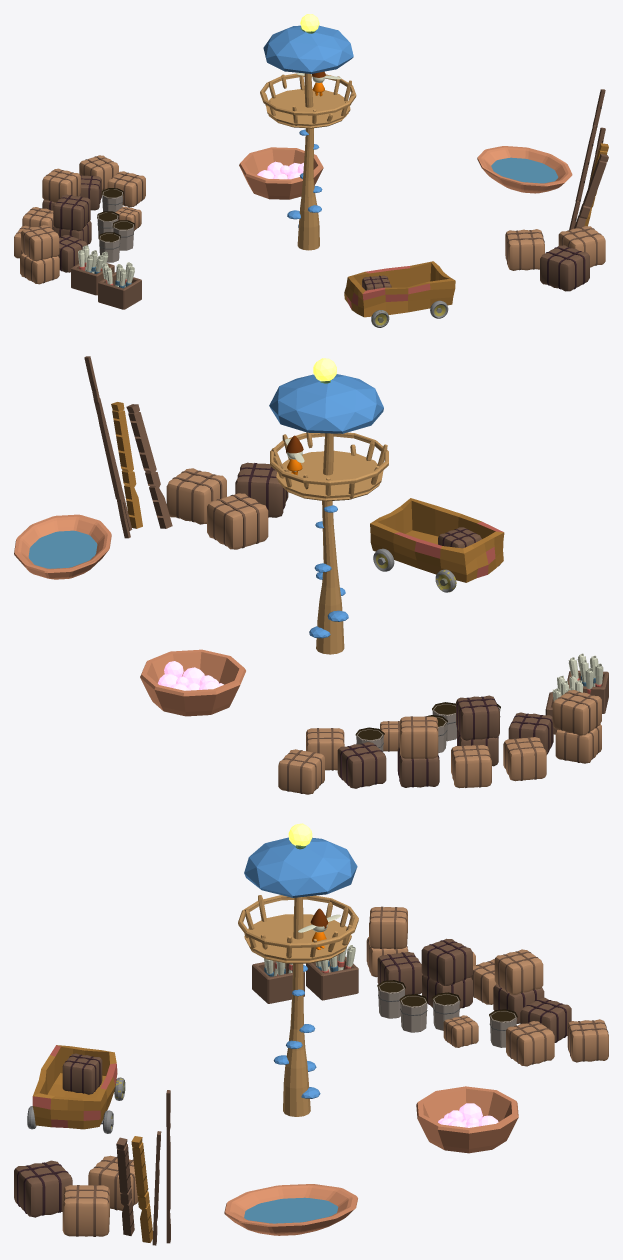
Rendered from port_items.fbx.
3 views of the same model, one above another, from view 1: azimuth 30°, elevation 25°; view 2: azimuth 150°, elevation 25°; view 3: azimuth 270°, elevation 25° (orthographic). The views are drawn at different scales.
Visible parts, largest first — view 1: Cube.050, Icosphere.184, CookingPot2, Circle.034, Circle.017, Circle, Package_2.020, Package_2.021, Circle.035, Package_2.019, Package_2.017, Package_2.016 (+15 smaller); view 2: Cube.050, Icosphere.184, CookingPot2, Circle.017, Circle, Circle.034, Package_2.021, Package_2.019, Circle.035, Package_2.007, Package_2.020, Package_2.016 (+14 smaller); view 3: Icosphere.184, CookingPot2, Cube.050, Circle.034, Circle, Circle.017, Package_2.020, Package_2.019, Package_2.017, Circle.035, Package_2.008, Package_2.006 (+21 smaller).
Part boxes in pixels (bbox=[...]): Cube.050: bbox=[344, 261, 455, 317]; Icosphere.184: bbox=[263, 25, 353, 73]; CookingPot2: bbox=[239, 147, 323, 199]; Circle.034: bbox=[477, 146, 572, 193]; Circle.017: bbox=[266, 89, 350, 128]; Circle: bbox=[297, 73, 319, 250]; Package_2.020: bbox=[540, 245, 589, 291]; Package_2.021: bbox=[505, 229, 544, 270]; Circle.035: bbox=[491, 157, 558, 183]; Package_2.019: bbox=[558, 226, 605, 267]; Package_2.017: bbox=[53, 194, 90, 231]; Package_2.016: bbox=[21, 225, 59, 261]; Cube.050: bbox=[370, 498, 504, 582]; Icosphere.184: bbox=[269, 374, 383, 433]; CookingPot2: bbox=[140, 649, 245, 716]; Circle.017: bbox=[276, 450, 383, 501]; Circle: bbox=[316, 433, 344, 654]; Circle.034: bbox=[14, 514, 111, 579]; Package_2.021: bbox=[207, 493, 268, 549]; Package_2.019: bbox=[166, 468, 226, 524]; Circle.035: bbox=[28, 530, 97, 568]; Package_2.007: bbox=[337, 742, 386, 788]; Package_2.020: bbox=[235, 462, 288, 517]; Package_2.016: bbox=[552, 690, 601, 735]; Icosphere.184: bbox=[244, 837, 357, 897]; CookingPot2: bbox=[416, 1086, 518, 1153]; Cube.050: bbox=[32, 1045, 117, 1129]; Circle.034: bbox=[224, 1184, 357, 1235]; Circle: bbox=[283, 897, 310, 1116]; Circle.017: bbox=[244, 914, 351, 963]; Package_2.020: bbox=[14, 1160, 72, 1217]; Package_2.019: bbox=[62, 1185, 109, 1236]; Package_2.017: bbox=[421, 938, 472, 985]; Circle.035: bbox=[244, 1197, 338, 1223]; Package_2.008: bbox=[494, 949, 543, 994]; Package_2.006: bbox=[506, 1021, 554, 1066].
Size of the model in its own units: 1246 by 557 by 1033.
